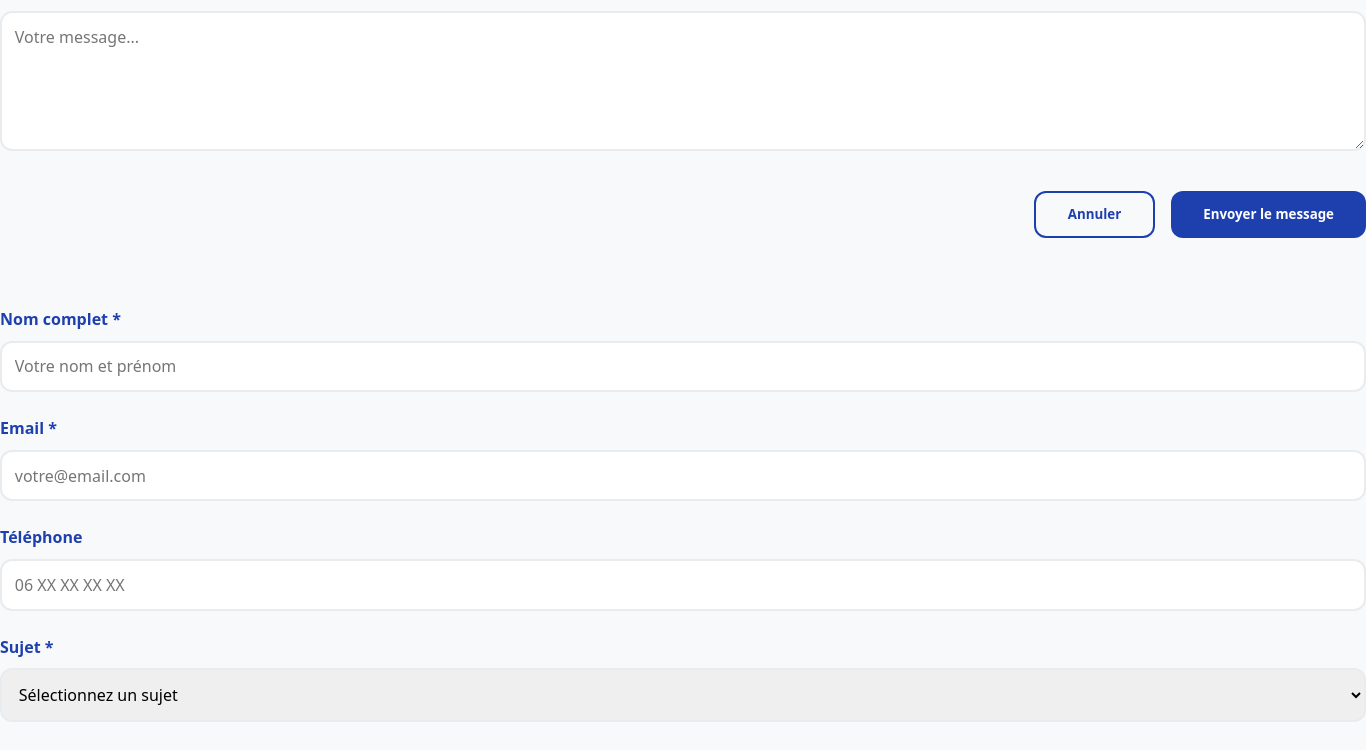
ContactForm › shows success message after successful submission
(page scrolled)
Note: Fill form with valid data
Type "John Doe" into the field with id "name" at (683, 366), box [0,341,1365,392]
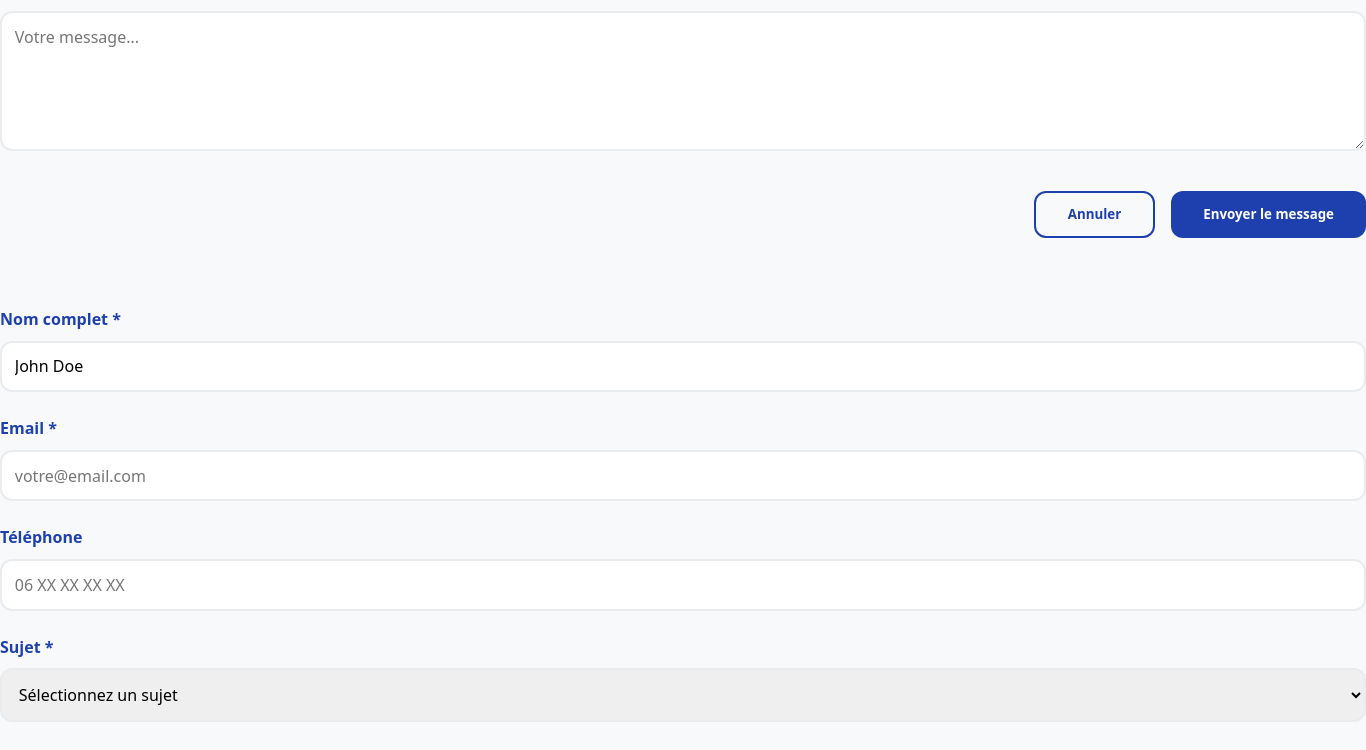
Type "john@example.com" into the field with id "email" at (683, 476), box [0,450,1365,501]
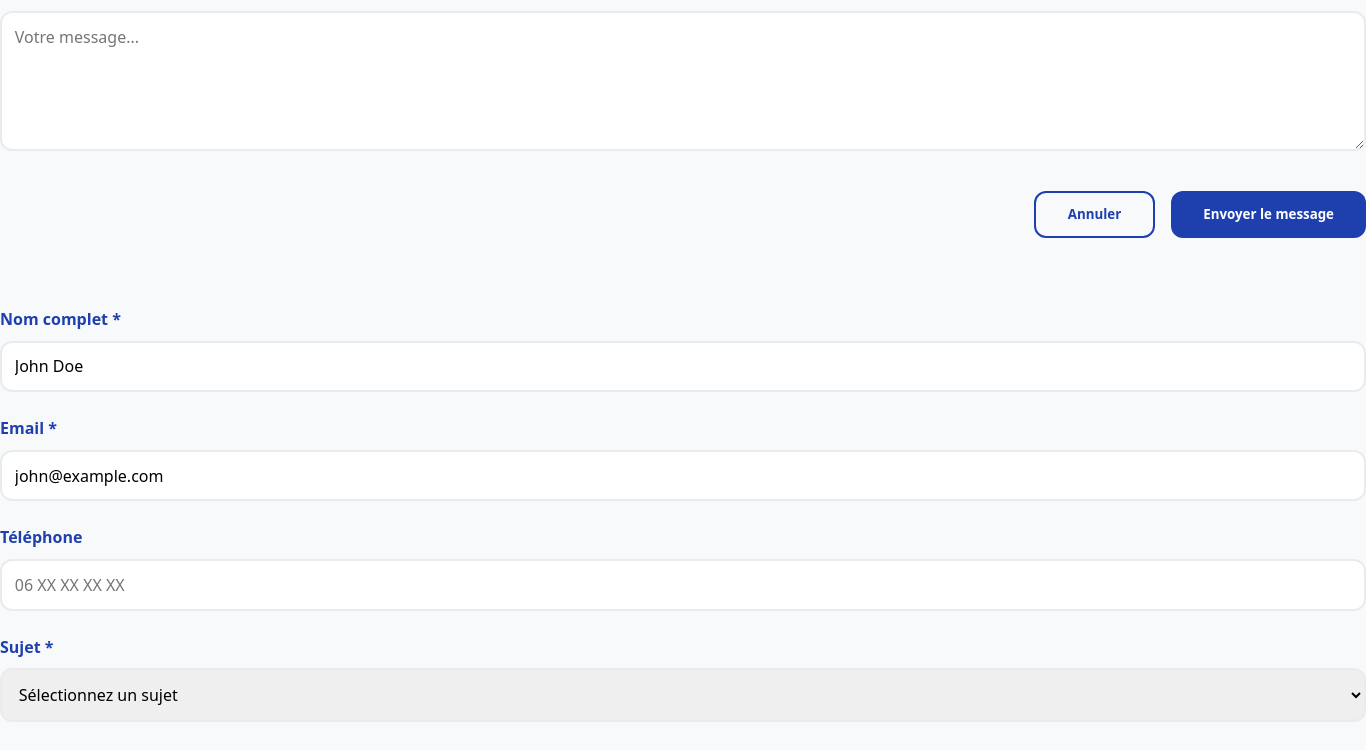
Select "Inscription au club" in the dropdown with id "subject" at (683, 695), box [0,668,1365,722]
(page scrolled)
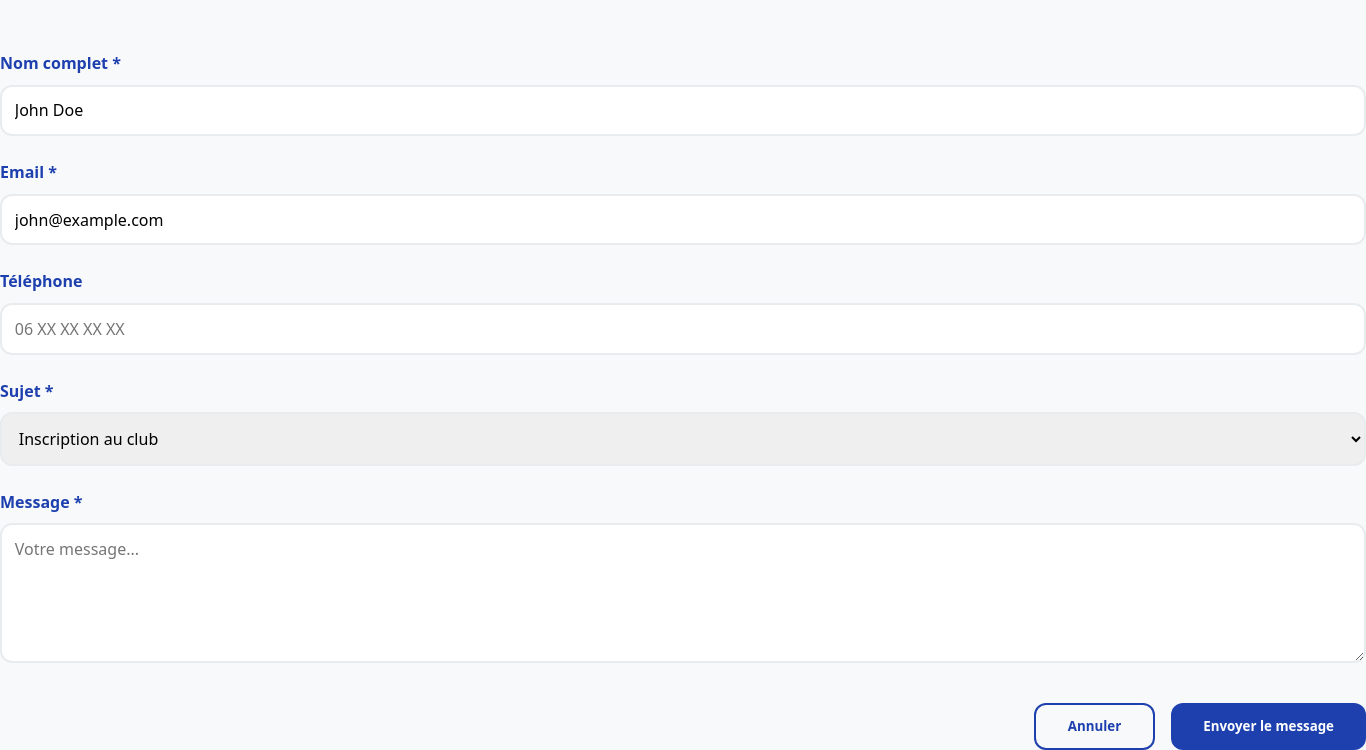
Type "Test message" into the text box with id "message" at (683, 593), box [0,523,1365,663]
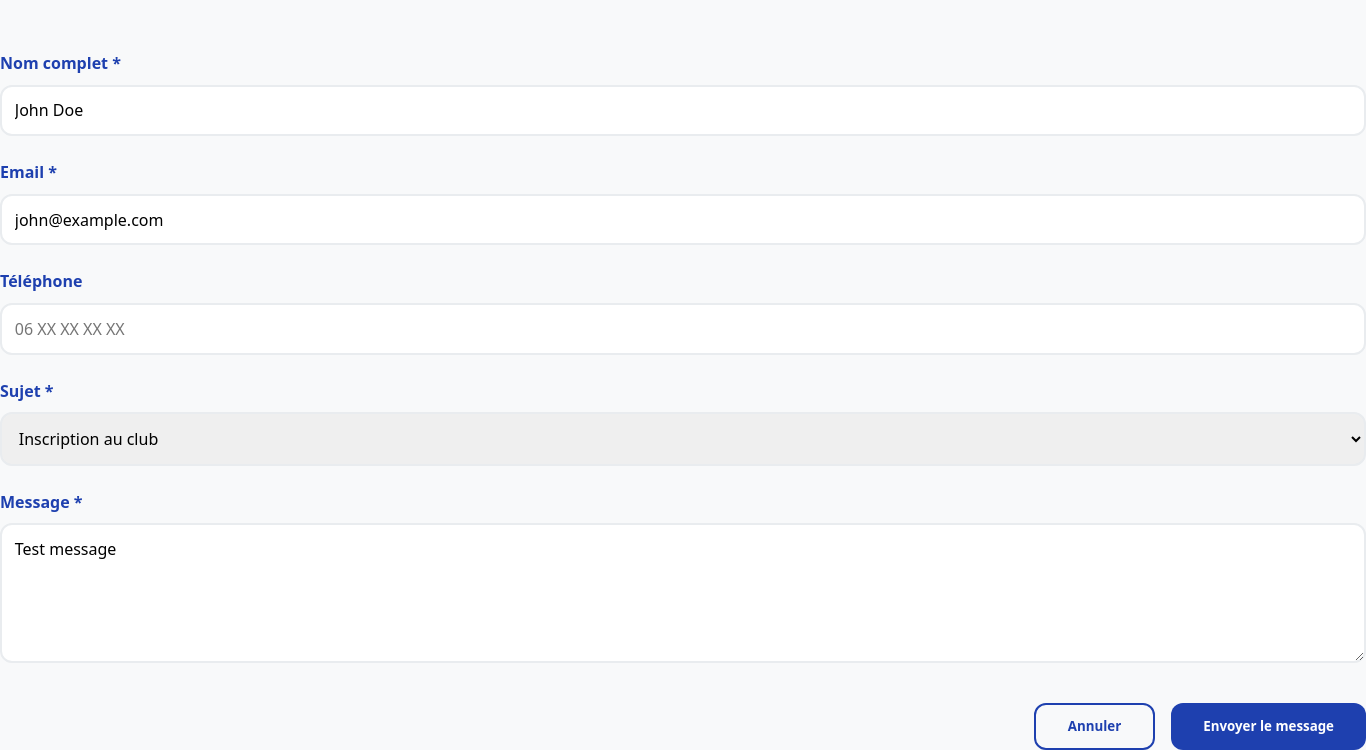
Click the submit button at (1269, 726), box [1171,702,1365,749]
(page scrolled)
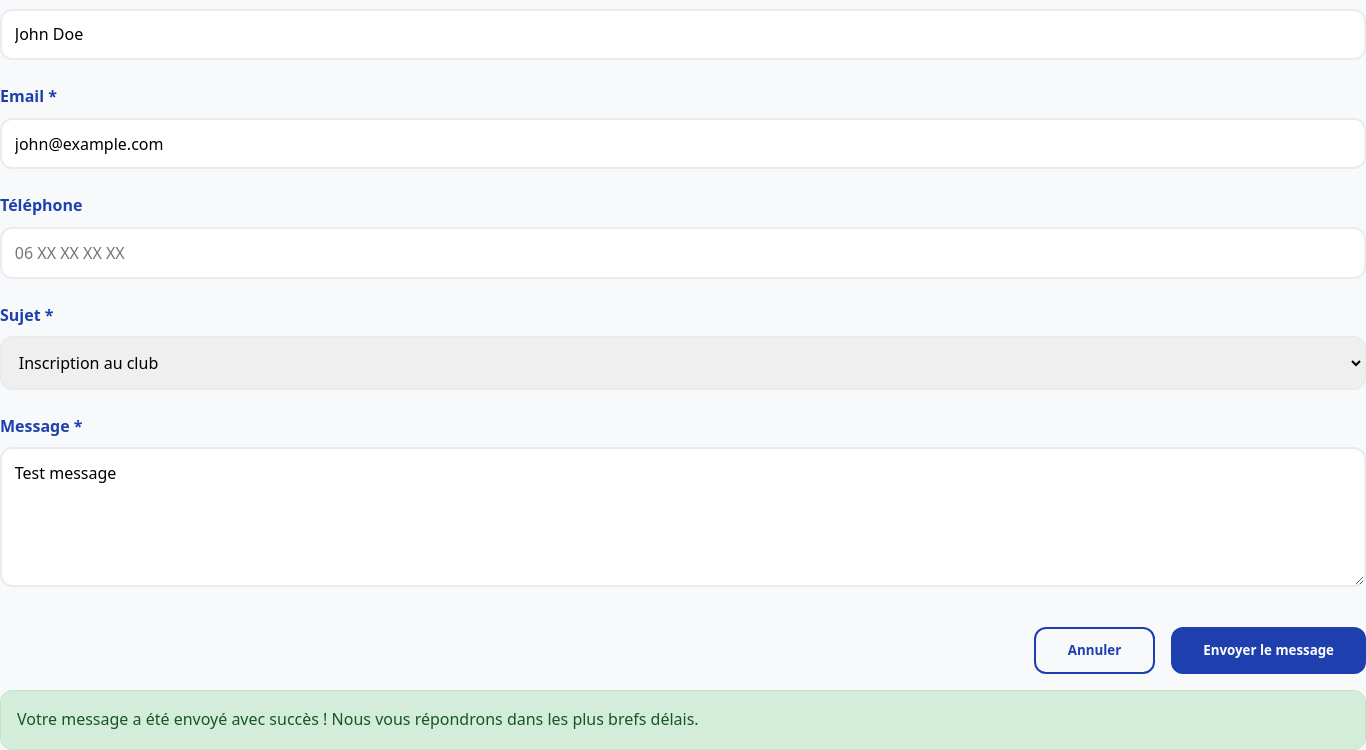
Check: the text with class "success" is shown, box [0,690,1365,749]
Check: the text with class "success" shows "envoyé avec succès", box [17,708,699,730]
